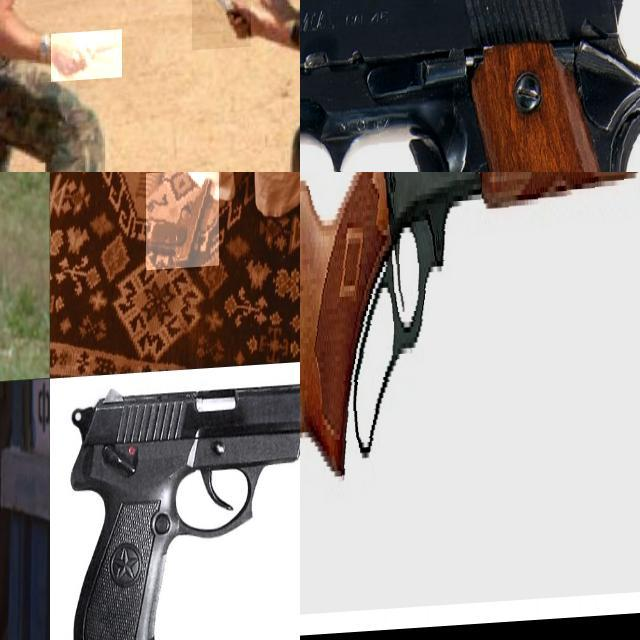-: (51, 32, 122, 84), (192, 0, 250, 54)
gun-knife-thesis - v11 Yolov5 augmented: (300, 172, 640, 622), (60, 382, 300, 640), (300, 0, 640, 172), (146, 176, 219, 276), (0, 389, 50, 525), (0, 213, 16, 306)
